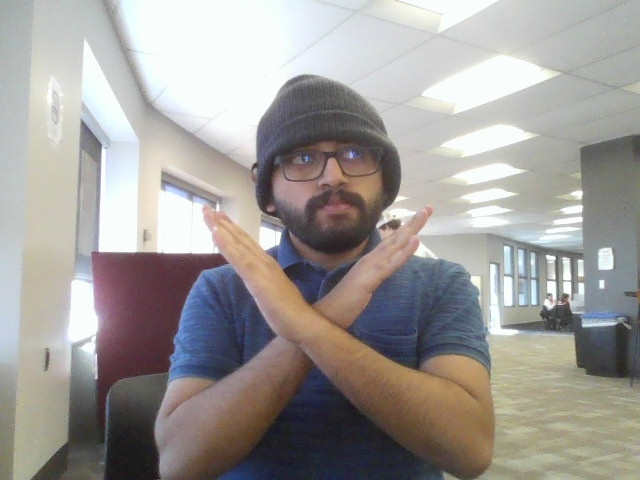start: (195, 196, 449, 469)
